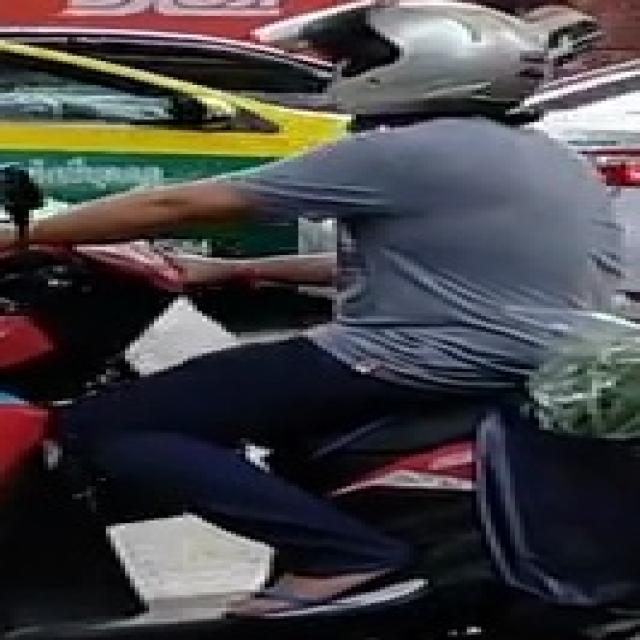door: (0, 27, 356, 334)
helmet: (246, 0, 602, 117)
